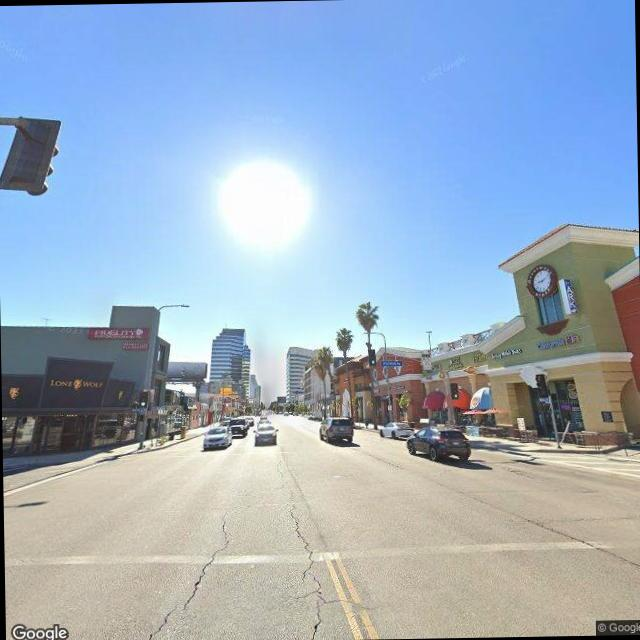crack: (119, 508, 235, 640), (272, 464, 358, 638)
